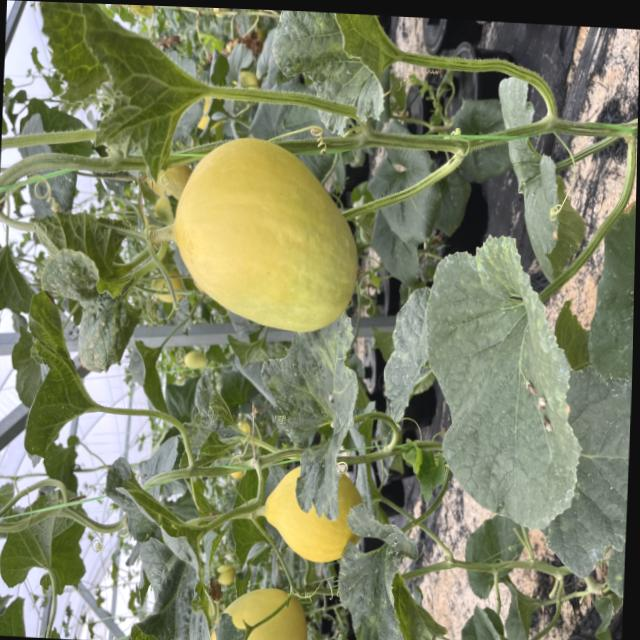CMV: (28, 1, 200, 183)
SLCV: (259, 312, 365, 516), (38, 241, 144, 384), (177, 372, 243, 474)
downy mildew: (419, 228, 591, 533), (101, 453, 227, 640), (334, 499, 451, 640), (268, 10, 396, 131), (12, 289, 88, 474), (0, 530, 11, 635)
healthy: (0, 485, 92, 602)
powdery mildew: (559, 363, 632, 579), (210, 607, 276, 640)
